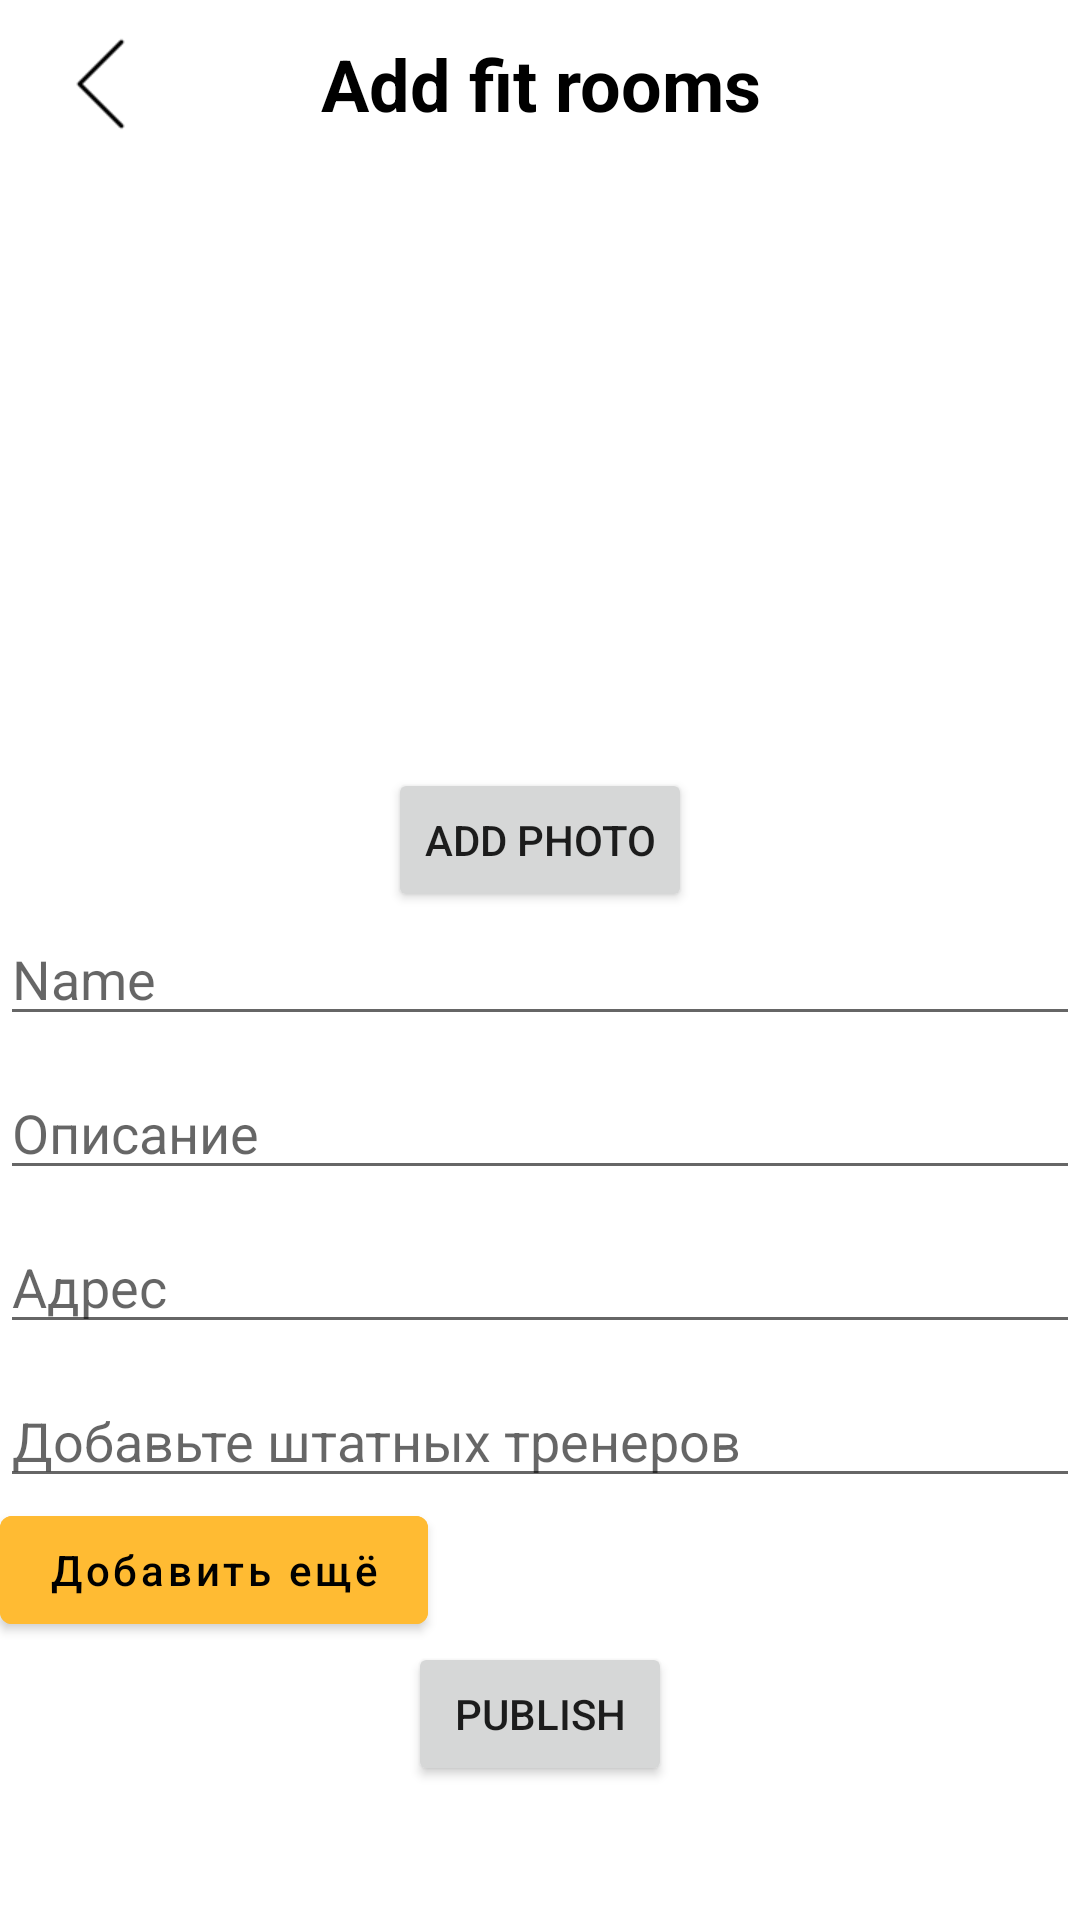

Icon bounding boxes for this 1080x1920 phone screenshot, format (x1, y1, x2, y2):
back: (76, 39, 125, 129)
